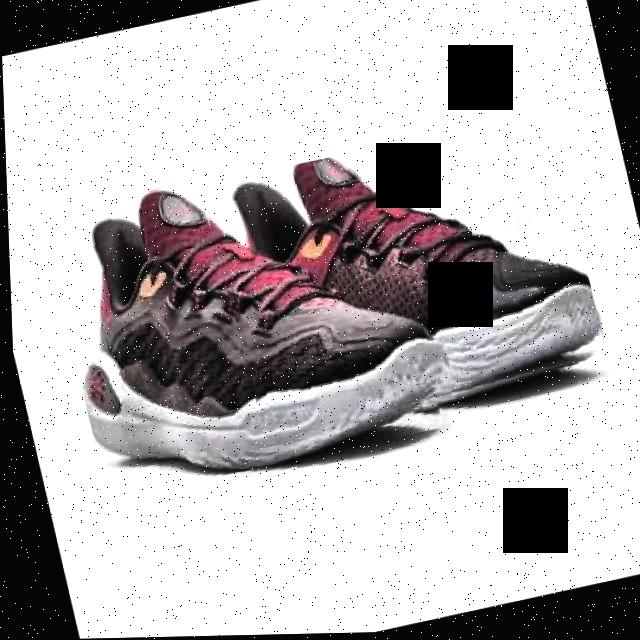shoe: (38, 140, 452, 501), (197, 111, 609, 445)
